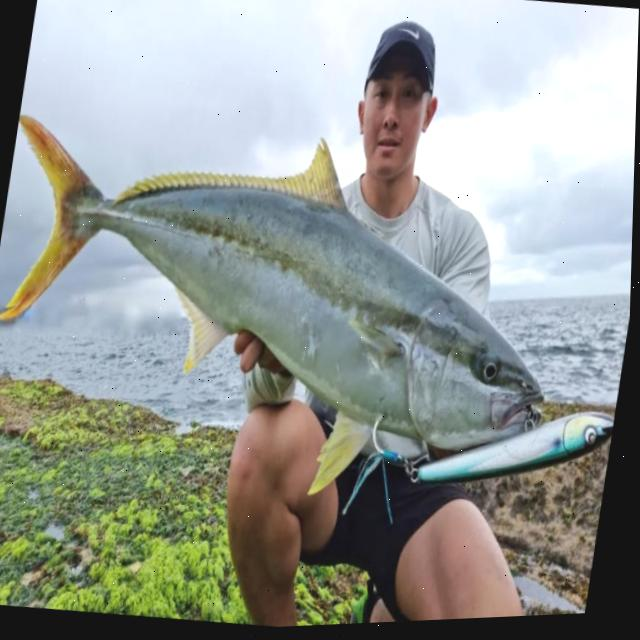Kingfish: (0, 87, 584, 539)
